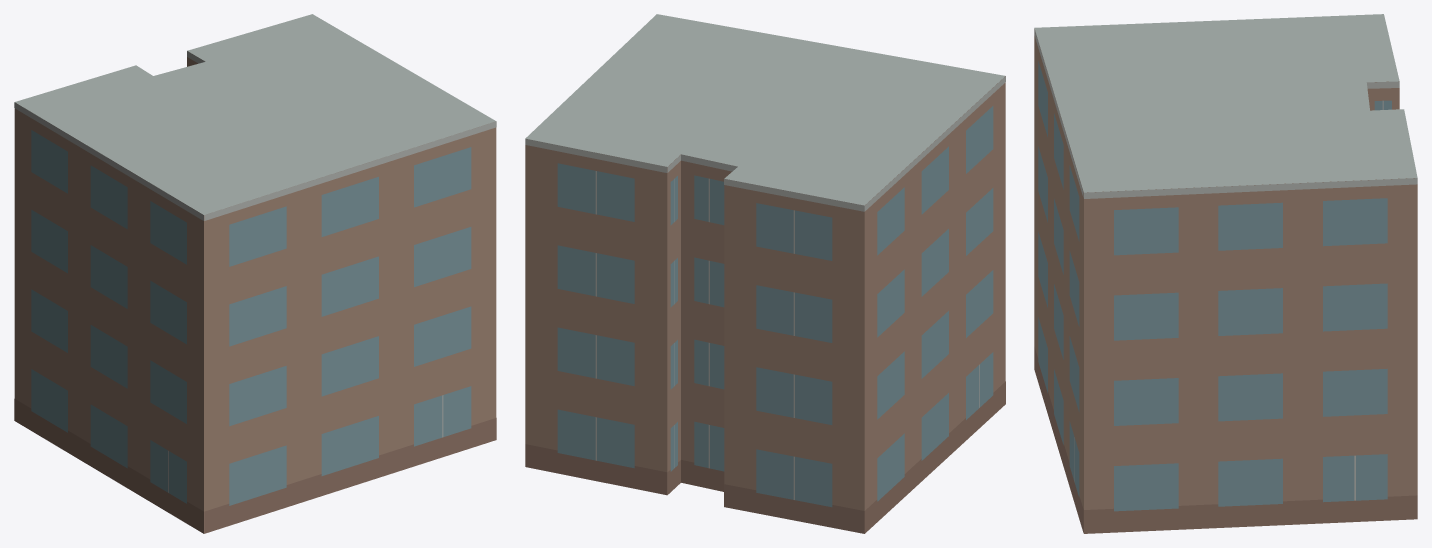
File: survey-upis-33038412.glb
3 views of the same model, side by side, from view 1: azimuth 30°, elevation 25°; view 2: azimuth 150°, elevation 25°; view 3: azimuth 270°, elevation 25° (orthographic). The views are drawn at different scales.
Parts seen in each view (by area): view 1: survey-upis-33038412.tmp; view 2: survey-upis-33038412.tmp; view 3: survey-upis-33038412.tmp.
Boxes of the visible parts, x1,y1,x2,y2 form: survey-upis-33038412.tmp: (14, 14, 496, 533); survey-upis-33038412.tmp: (525, 14, 1005, 533); survey-upis-33038412.tmp: (1034, 14, 1417, 533).
Size of the model in its own units: 14.37 by 12.8 by 13.04.
